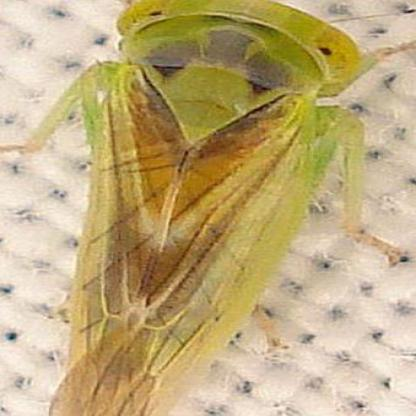green-leafhopper: (54, 0, 388, 416)
